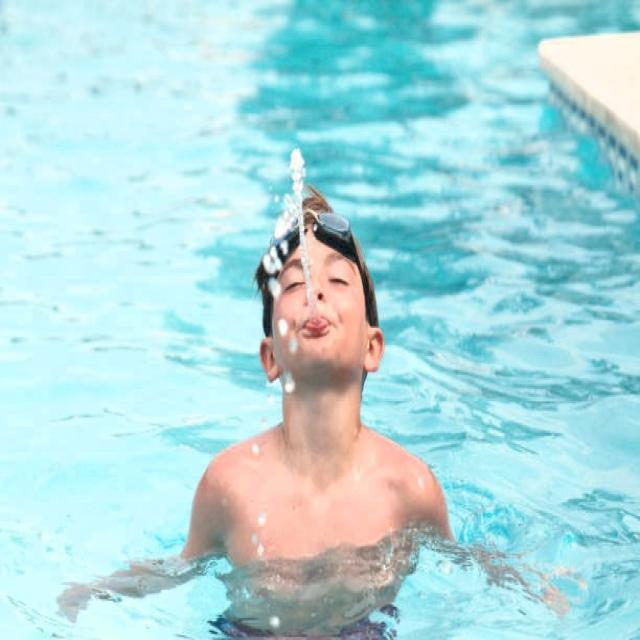Spitting: (237, 175, 383, 462)
